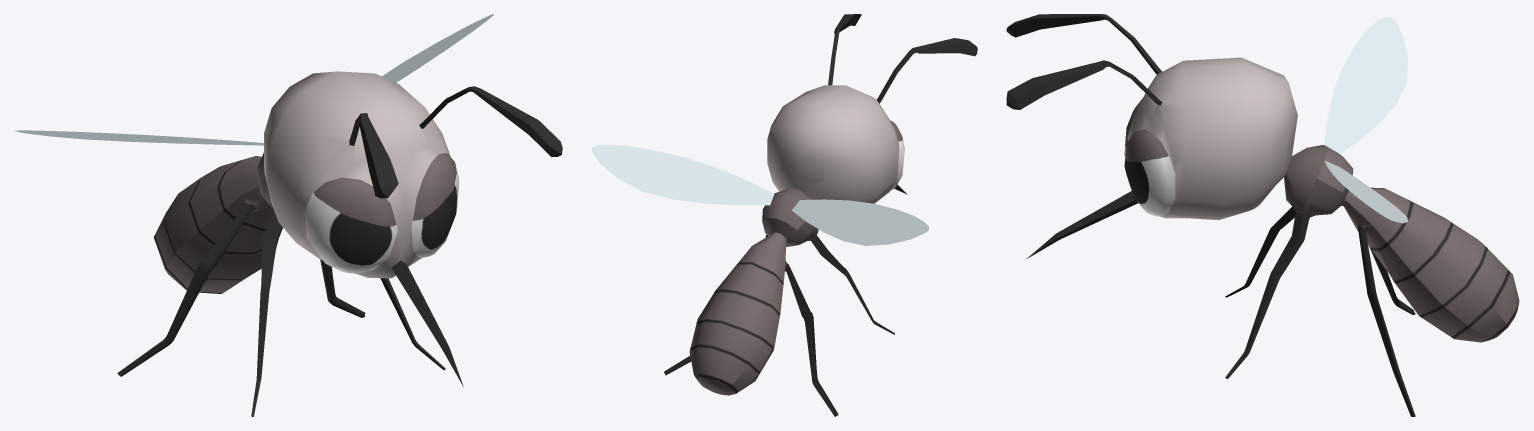
Rendered from mosquito.FBX.
The picture shows the model from 3 angles, left to right: view 1: azimuth 30°, elevation 25°; view 2: azimuth 150°, elevation 25°; view 3: azimuth 270°, elevation 25°; orthographic projection. The views are drawn at different scales.
Visible parts, largest first — view 1: MOS; view 2: MOS; view 3: MOS.
Part boxes in pixels (x1,y1,x2,y2): MOS: (14, 14, 562, 416); MOS: (591, 14, 977, 416); MOS: (1006, 14, 1519, 416).
Bounding box in the file's own units: 5.46 × 4.1 × 5.82.
Materials: 1 (1 with a texture image).
